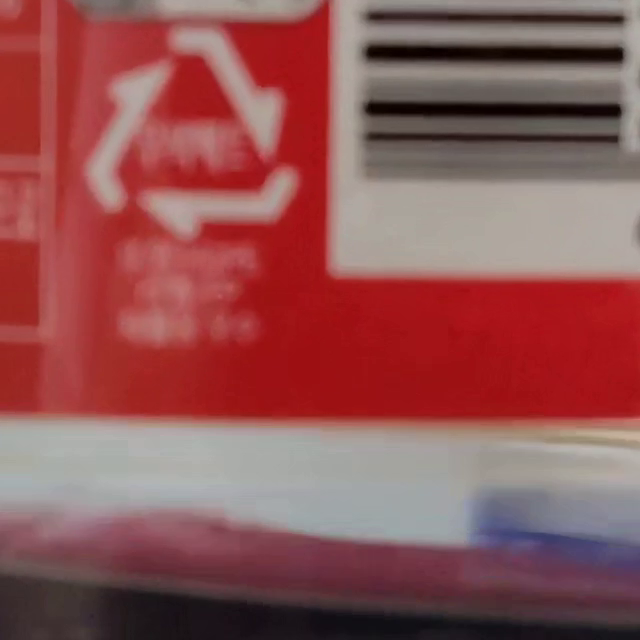ColorlessPet: (86, 29, 302, 237)
